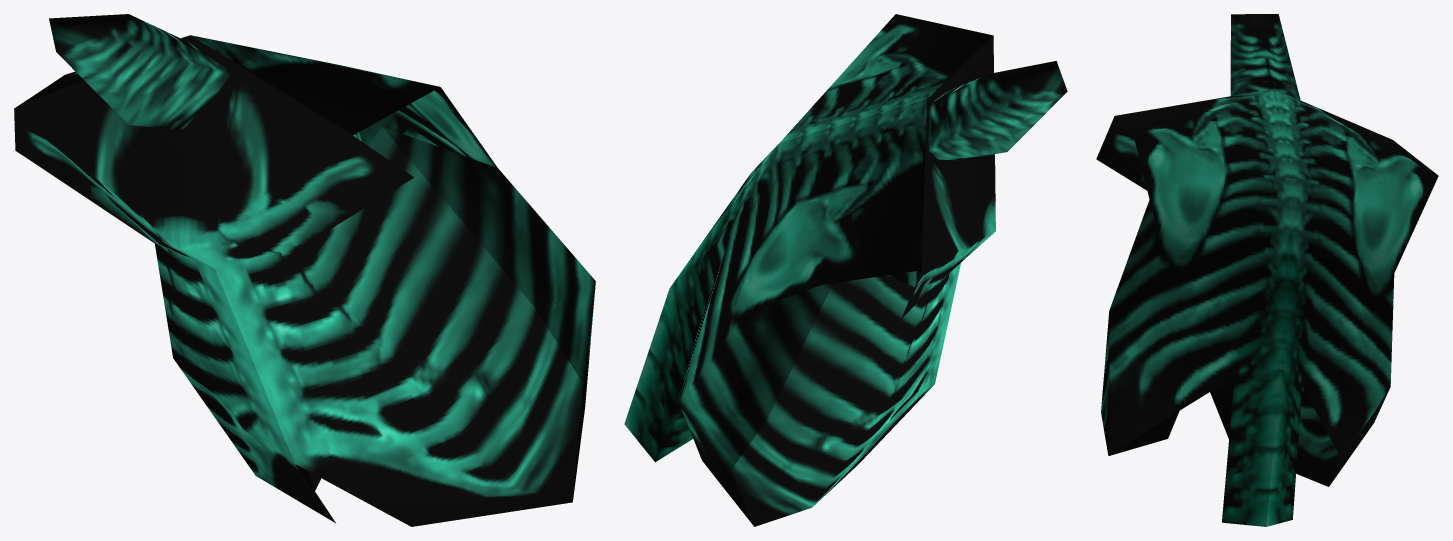
The model's file is VIFS14.obj.
3 renders of one model, left to right at view 1: azimuth 30°, elevation 25°; view 2: azimuth 150°, elevation 25°; view 3: azimuth 270°, elevation 25°, orthographic. The views are drawn at different scales.
Visible parts, largest first — view 1: VIFS14; view 2: VIFS14; view 3: VIFS14.
Part boxes in pixels (x1,y1,x2,y2): VIFS14: (14, 14, 595, 526); VIFS14: (624, 14, 1067, 526); VIFS14: (1096, 14, 1438, 526).
Bounding box in the file's own units: 18.57 × 19.65 × 16.06.
